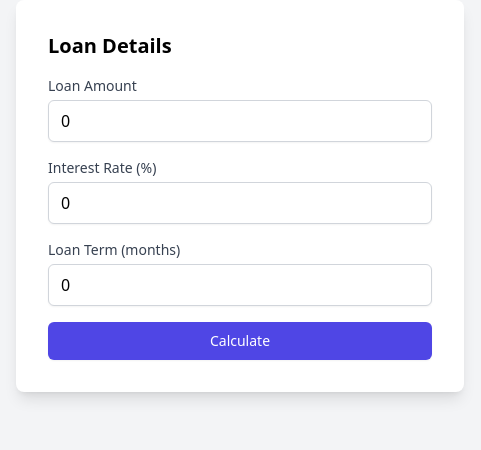
LoanForm Component › handles API errors
Replace the text in the number field labelled "Loan Amount" with "10000" at (240, 121), box [48,100,432,142]
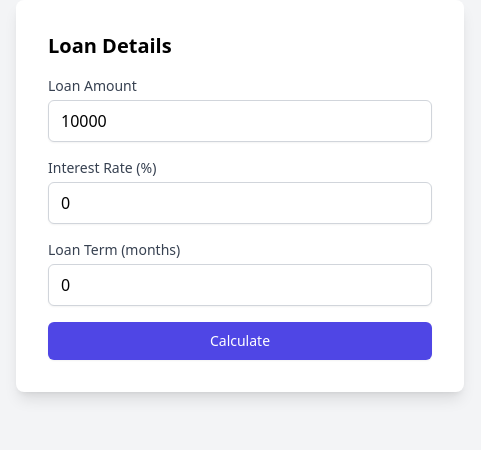
Replace the text in the number field labelled "Interest Rate (%)" with "5" at (240, 203), box [48,182,432,224]
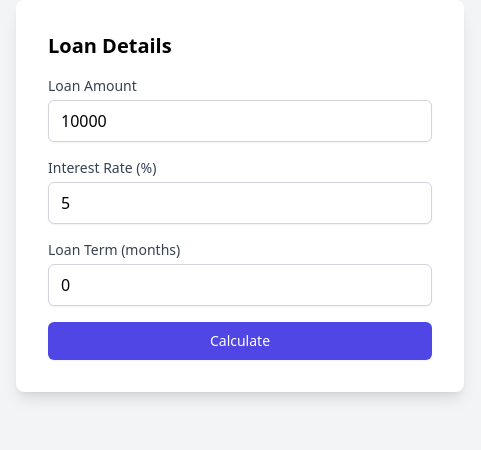
Replace the text in the number field labelled "Loan Term (months)" with "24" at (240, 285), box [48,264,432,306]
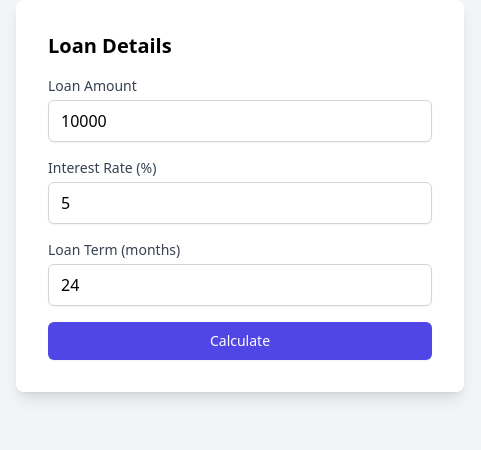
Click the button "Calculate" at (240, 341), box [48,322,432,360]
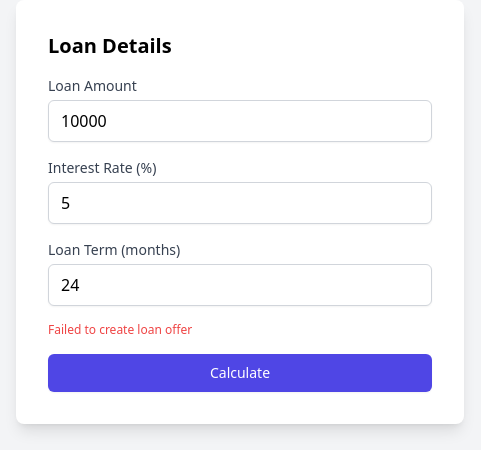
Check: the text "Failed to create loan offer" is shown, box [48,321,192,338]
